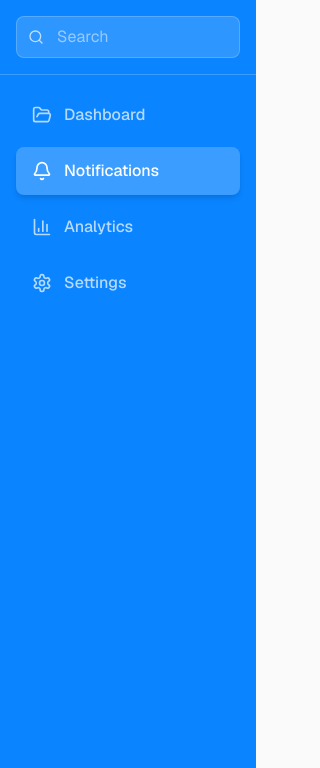
it: Sidebar › shows 'No results found' when search has no matches
Type "xyz123" into the field with placeholder "Search". click: (128, 37)
box: top-left (16, 16), bottom-right (240, 58)
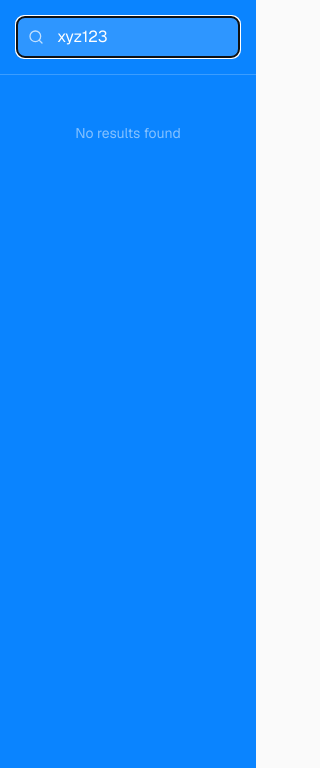
Expected: the text "No results found" is shown, top-left (75, 124), bottom-right (181, 142)
